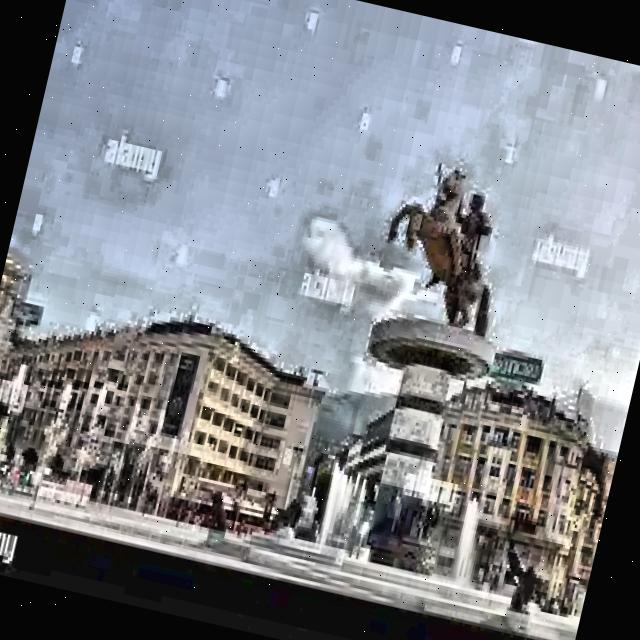alexander the great monument: (298, 138, 542, 606)
